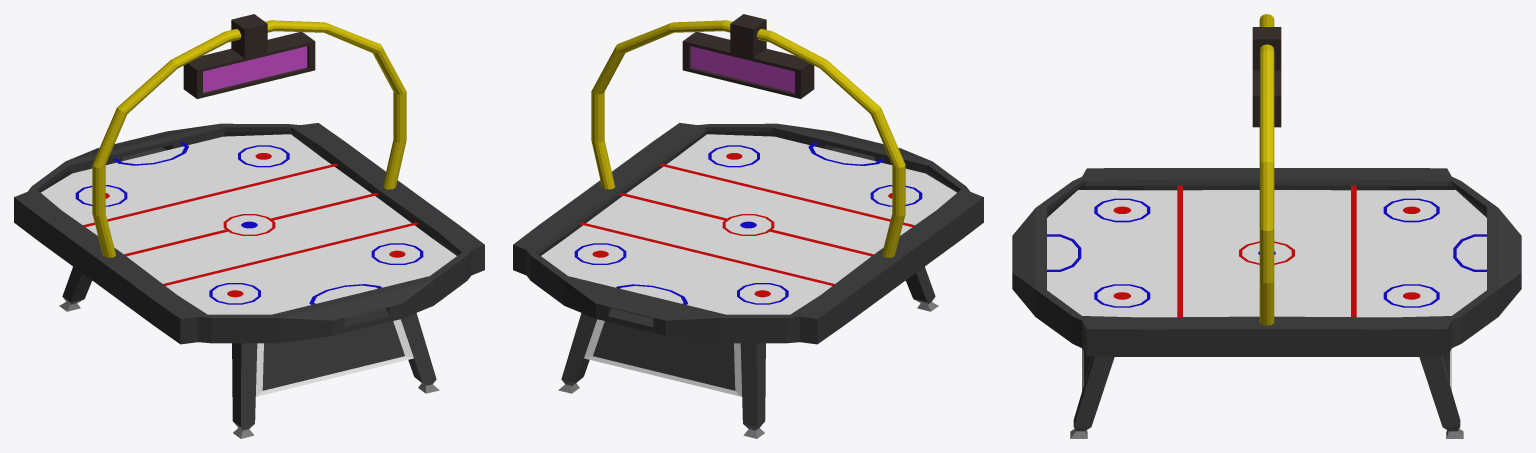
The model's file is Air Hockey Table.fbx.
3 renders of one model, left to right at view 1: azimuth 30°, elevation 25°; view 2: azimuth 150°, elevation 25°; view 3: azimuth 270°, elevation 25°, orthographic. The views are drawn at different scales.
Visible parts, largest first — view 1: Air Hockey Table, Score Bar, Air Hockey Lines; view 2: Air Hockey Table, Score Bar, Air Hockey Lines; view 3: Air Hockey Table, Score Bar, Air Hockey Lines.
Boxes of the visible parts, x1,y1,x2,y2 form: Air Hockey Table: (14, 123, 484, 438); Score Bar: (92, 14, 406, 257); Air Hockey Lines: (75, 142, 423, 304); Air Hockey Table: (513, 123, 983, 438); Score Bar: (591, 14, 905, 257); Air Hockey Lines: (574, 142, 922, 304); Air Hockey Table: (1012, 168, 1521, 438); Score Bar: (1252, 14, 1281, 325); Air Hockey Lines: (1047, 185, 1486, 317).
Size of the model in its own units: 2700 by 2694 by 3520.
